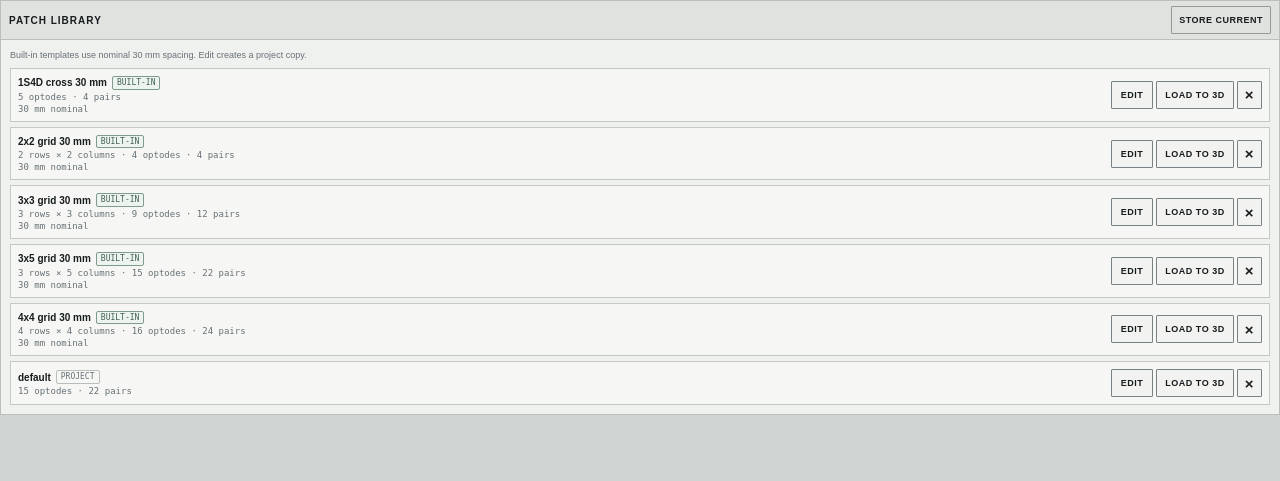
Test: LayoutLibrary built-in overlay › shows only the five editable rule presets with consistent actions
The width and height of the screenshot is (1280, 481).
Check: the text "BUILT-IN" is shown 5 times, box [112,76,160,90]; [96,135,144,148]; [96,193,144,207]; [96,252,144,266]; [96,310,144,324]
Check: the text "3 rows × 5 columns · 15 optodes · 22 pairs" is shown, box [18,268,246,278]
Click the button "EDIT" in the row of "1S4D cross 30 mm".
click(1132, 95)  # box [1111,81,1153,109]
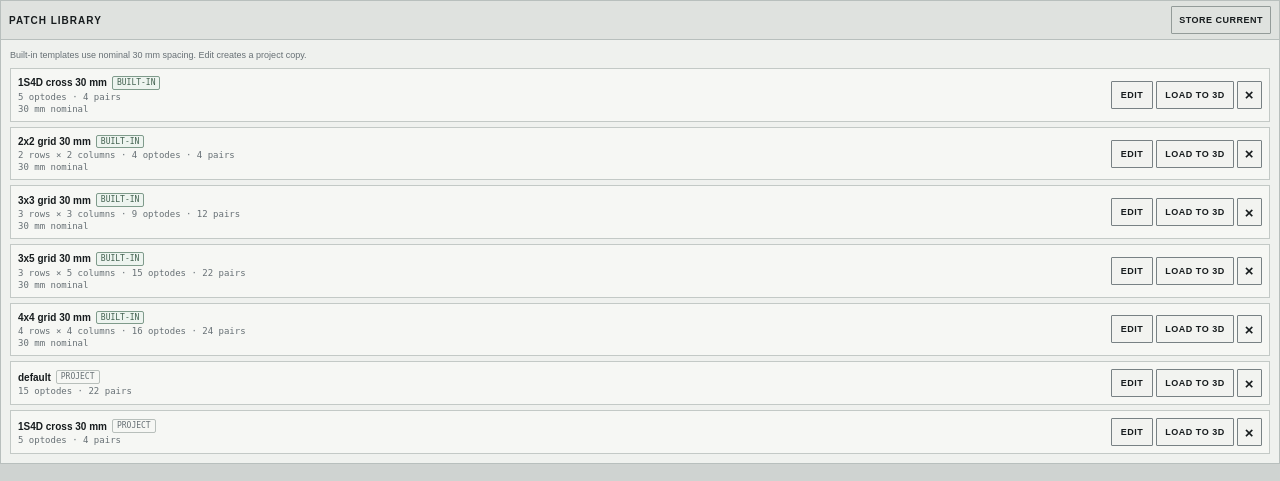
Click the button named "Remove 2x2 grid 30 mm from library".
click(1250, 154)  # box [1237,140,1262,168]
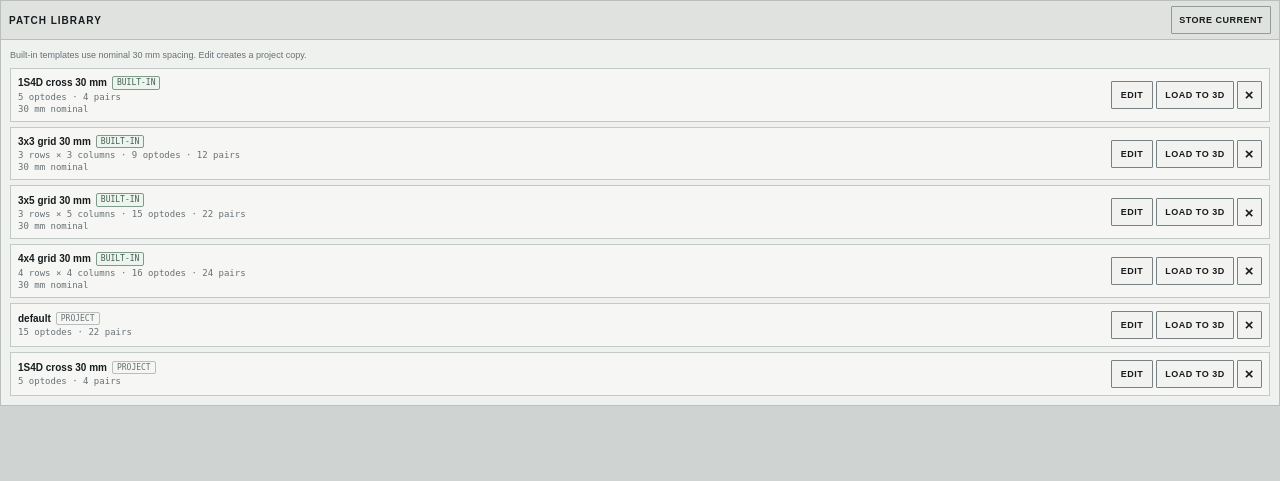
Check: the text "2x2 grid 30 mm" is gone
